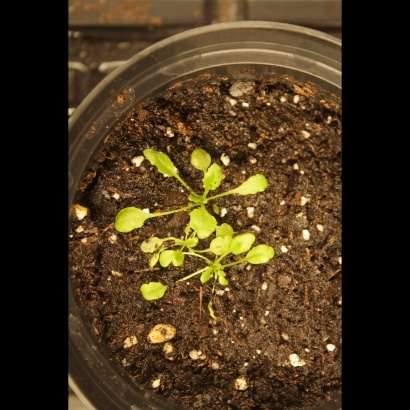leaf: (140, 143, 183, 182), (111, 203, 152, 240), (186, 199, 218, 240), (233, 172, 275, 201), (232, 226, 263, 258), (139, 277, 170, 305), (244, 241, 278, 266), (187, 143, 214, 170), (199, 165, 227, 191), (208, 233, 231, 256), (215, 219, 238, 242), (140, 231, 163, 254), (137, 248, 160, 271), (175, 246, 198, 269), (157, 248, 180, 271), (189, 265, 212, 288), (210, 264, 233, 287)
